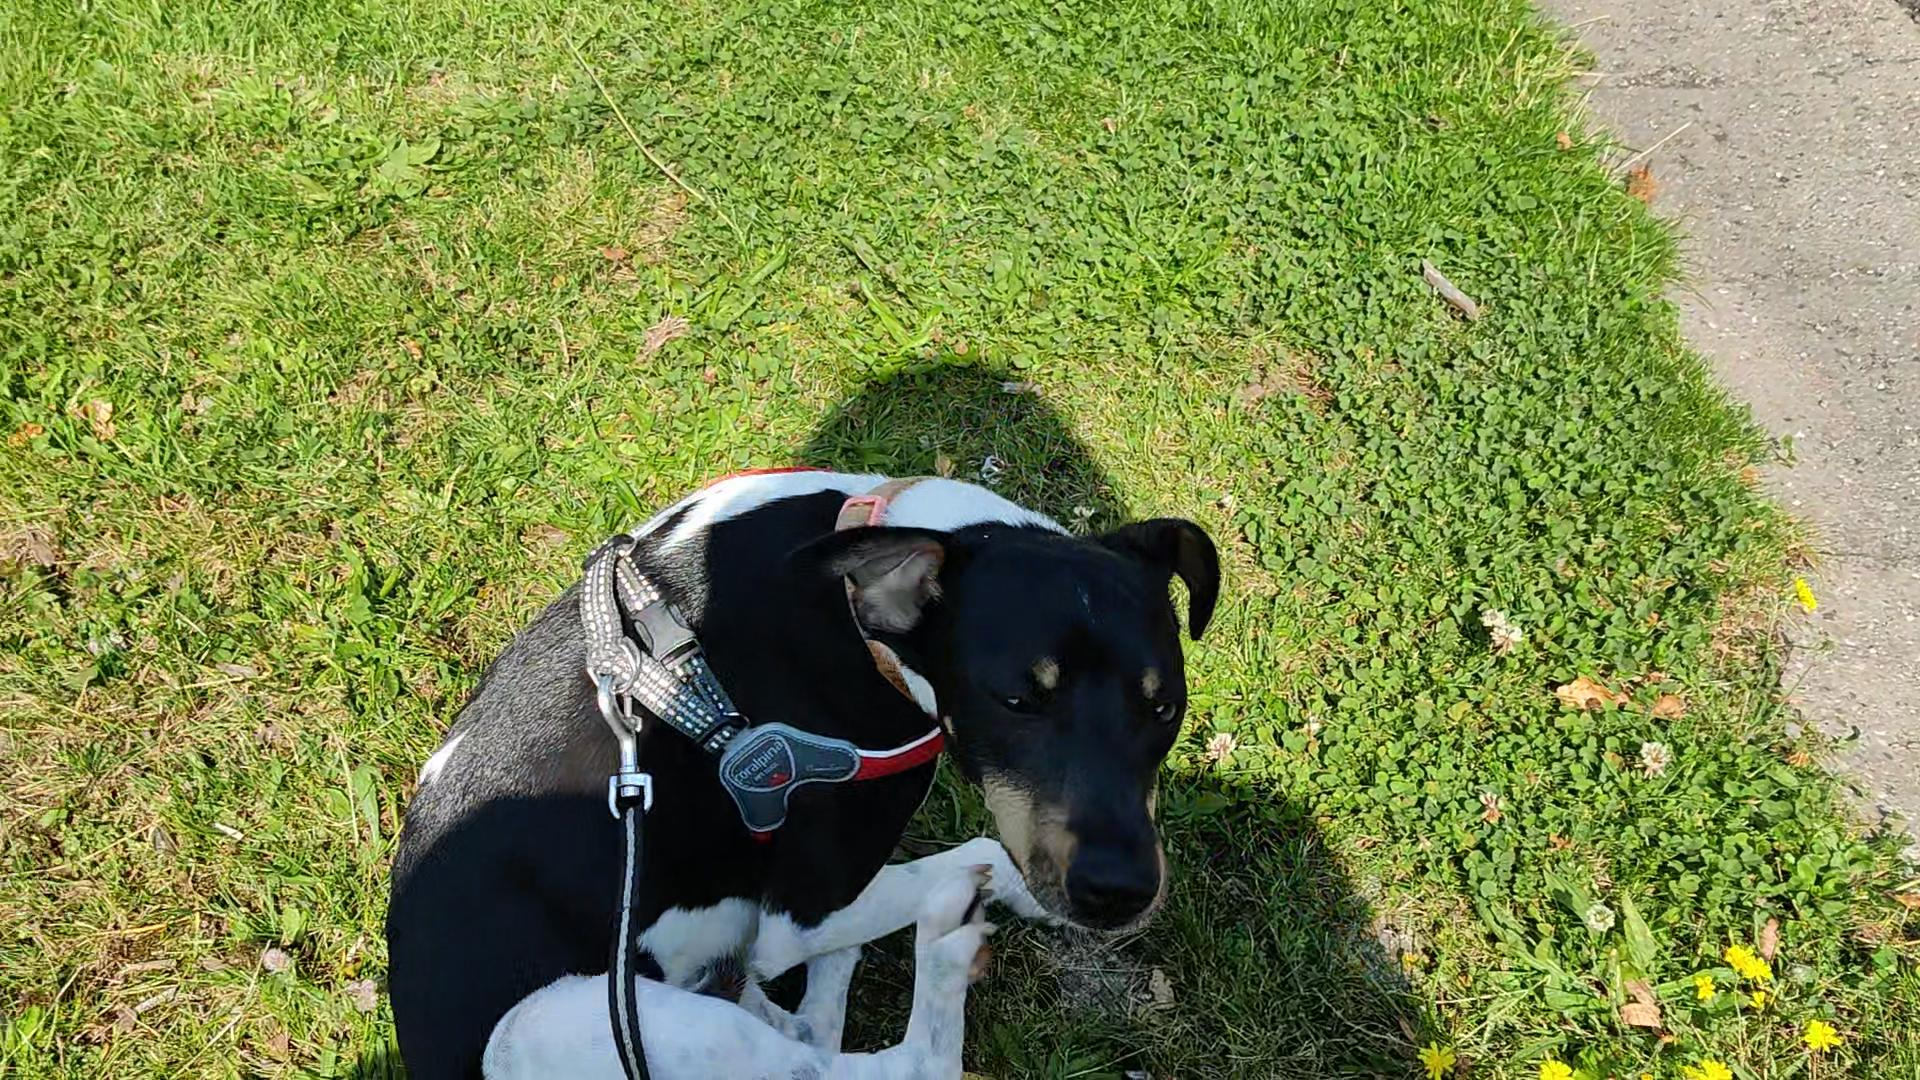Dog: (376, 456, 1222, 1079)
